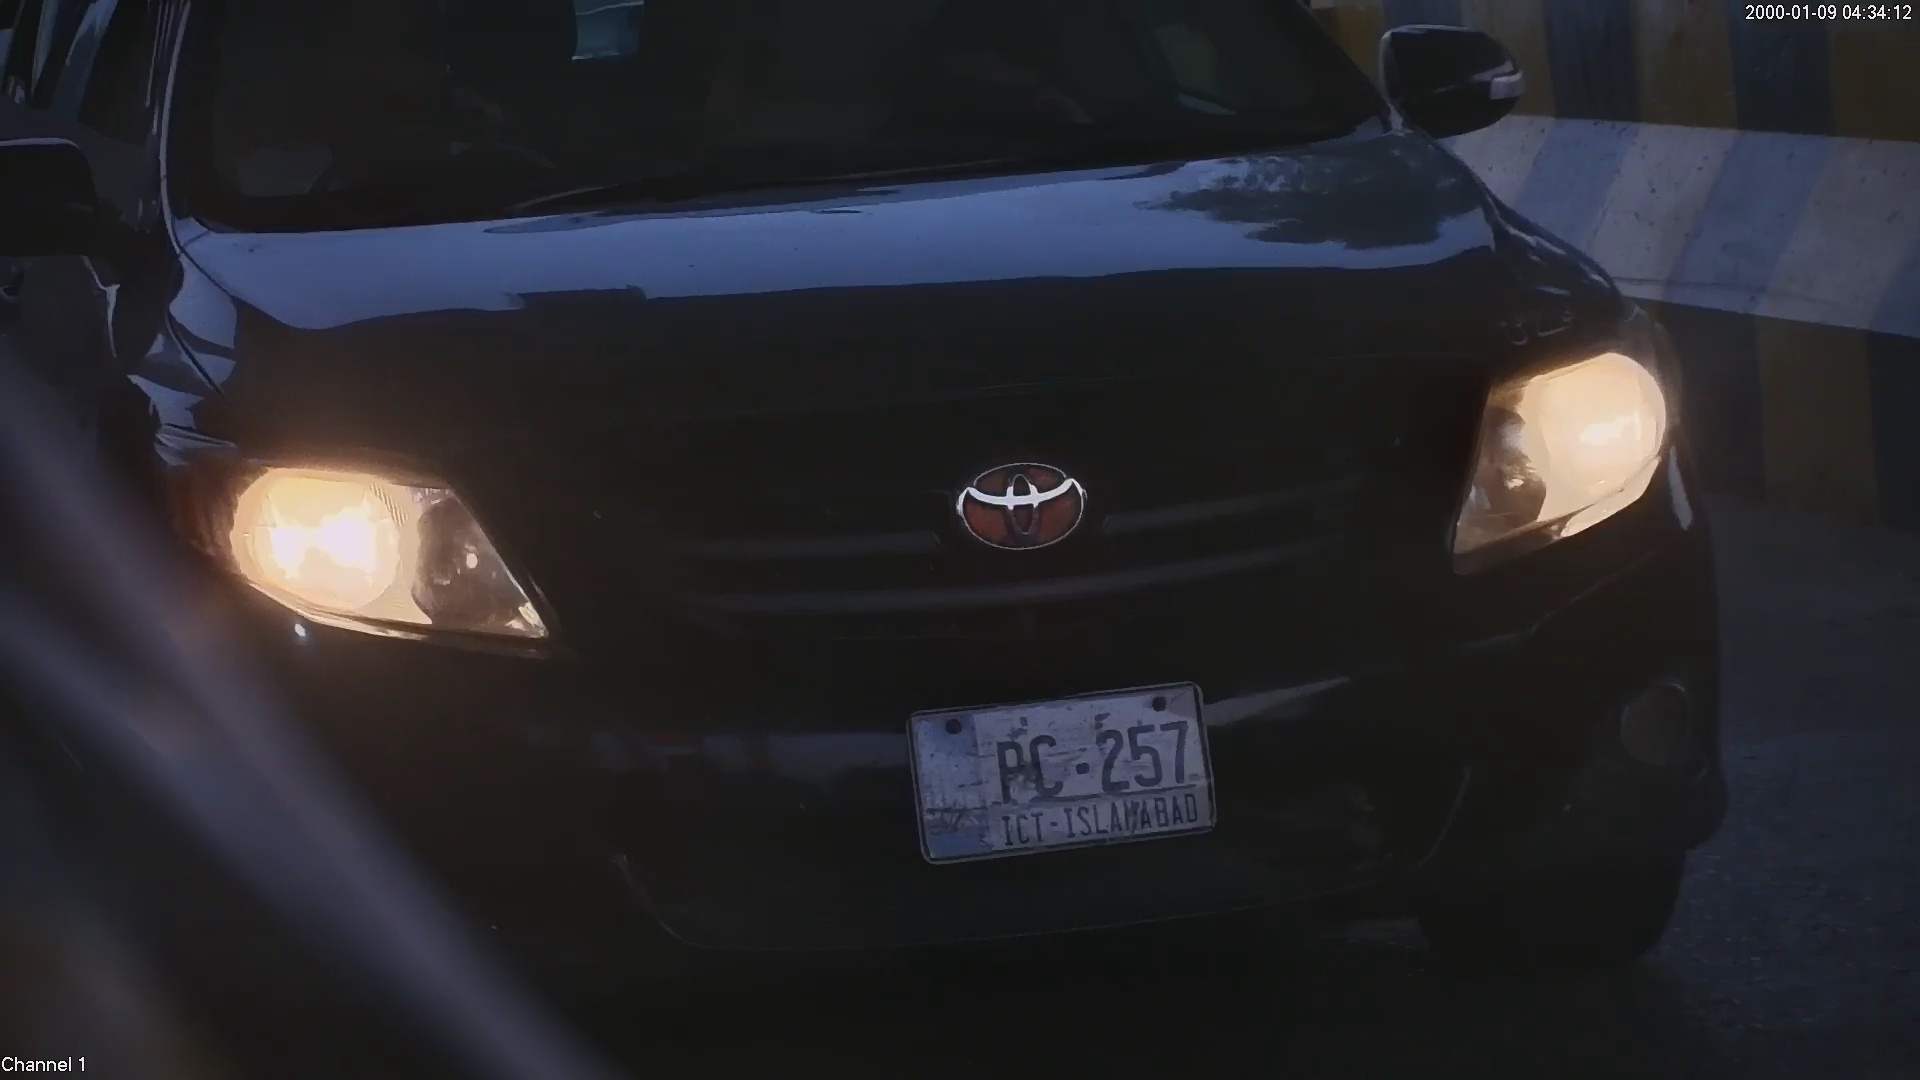Number_Plate: (897, 679, 1234, 868)
Undefined: (202, 455, 526, 649), (1469, 362, 1678, 536), (943, 442, 1093, 551)
